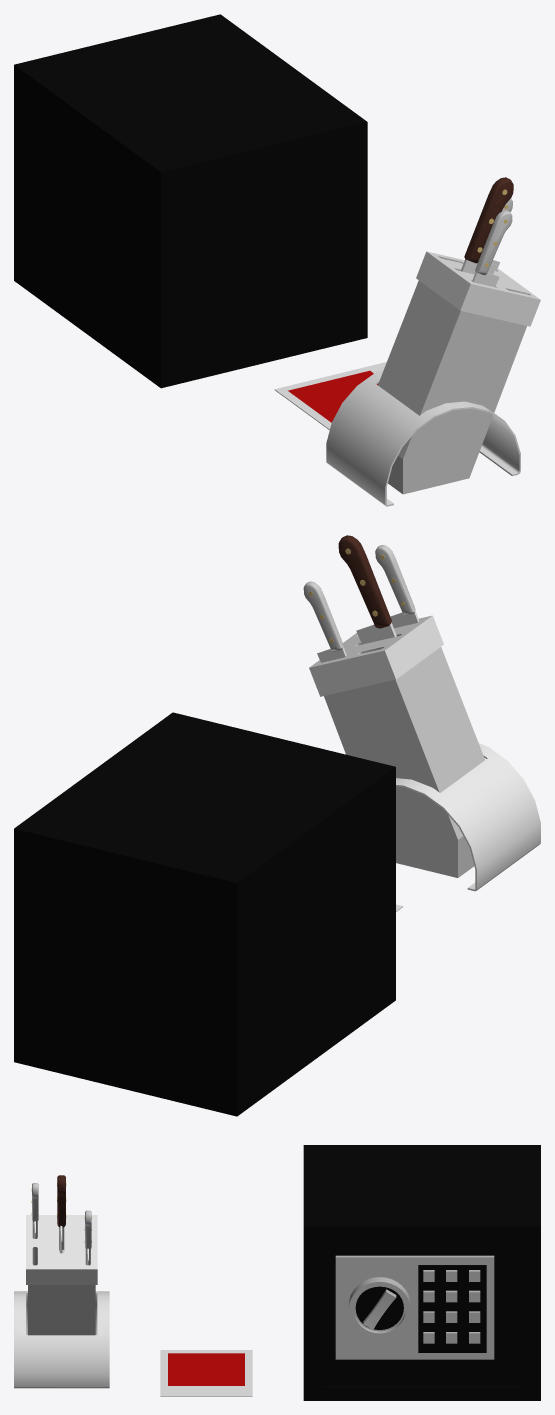
Rendered from Safe and photo (3).fbx.
3 views of the same model, one above another, from view 1: azimuth 30°, elevation 25°; view 2: azimuth 150°, elevation 25°; view 3: azimuth 270°, elevation 25° (orthographic). The views are drawn at different scales.
Parts seen in each view (by area): view 1: Safe, Podstavka, Photo, Knife, Knife.001; view 2: Safe, Podstavka, Knife, Knife.001, Knife.002; view 3: Safe, Safe.014, Podstavka, Photo, Knife, Knife.001, Knife.002.
Part boxes in pixels (box(x1,y1,x2,y2)): Safe: box(14, 14, 367, 388); Podstavka: box(326, 251, 540, 506); Photo: box(274, 362, 386, 429); Knife: box(460, 177, 513, 274); Knife.001: box(472, 210, 512, 287); Safe: box(14, 712, 395, 1116); Podstavka: box(309, 615, 540, 891); Knife: box(338, 535, 396, 644); Knife.001: box(375, 545, 419, 628); Knife.002: box(303, 581, 346, 662); Safe: box(303, 1145, 540, 1400); Safe.014: box(322, 1240, 522, 1385); Podstavka: box(14, 1215, 109, 1388); Photo: box(160, 1350, 252, 1396); Knife: box(57, 1175, 66, 1253); Knife.001: box(31, 1183, 38, 1238); Knife.002: box(84, 1210, 91, 1265).
Size of the model in its own units: 0.4897 by 1.25 by 0.575.
